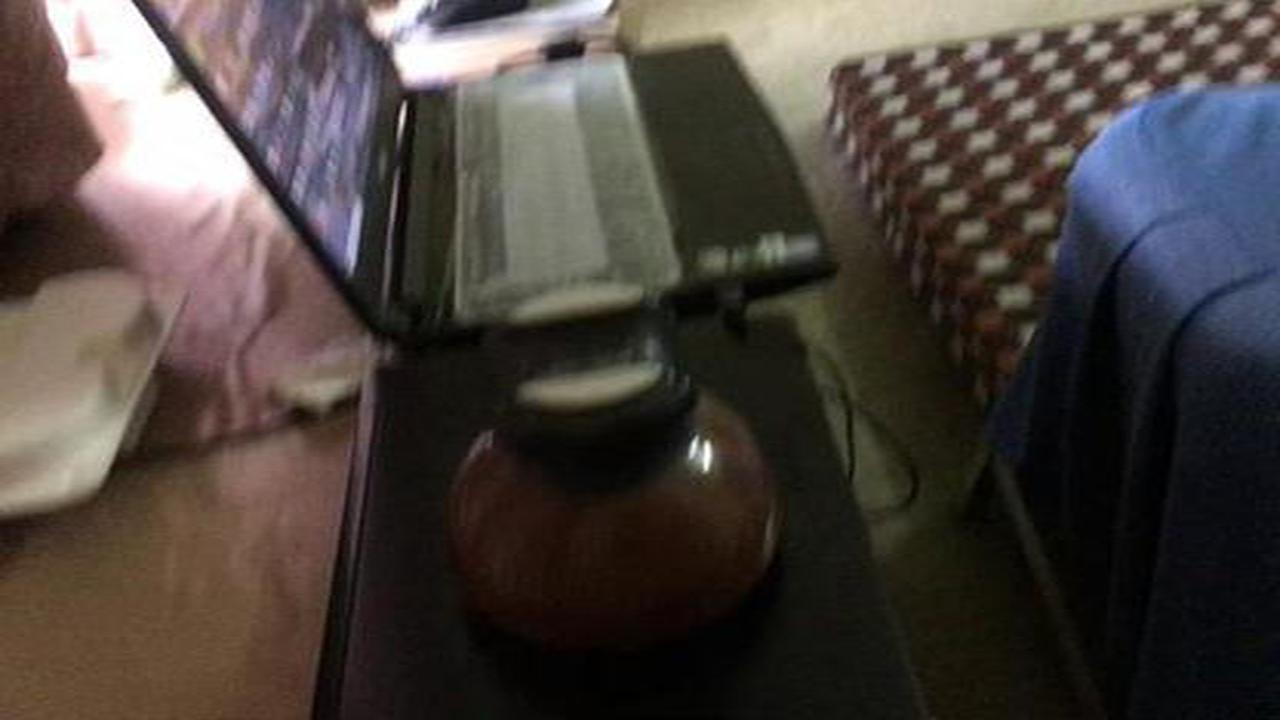insulator_pin: (416, 271, 816, 689)
